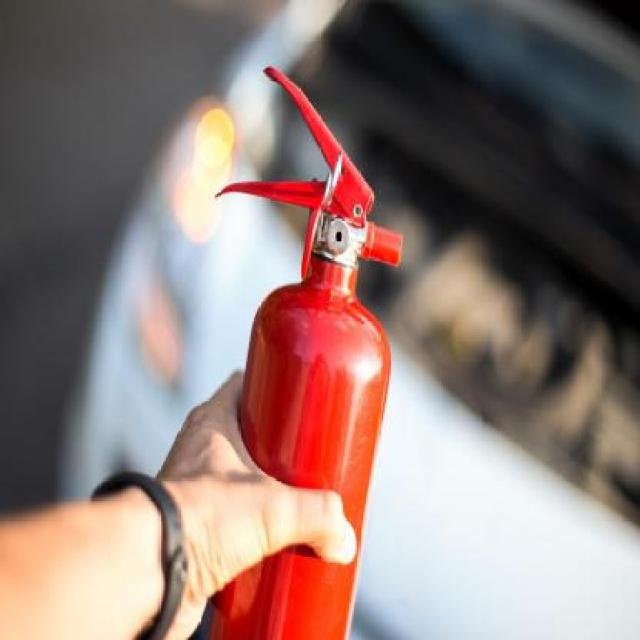fire extinguisher: (203, 64, 403, 640)
